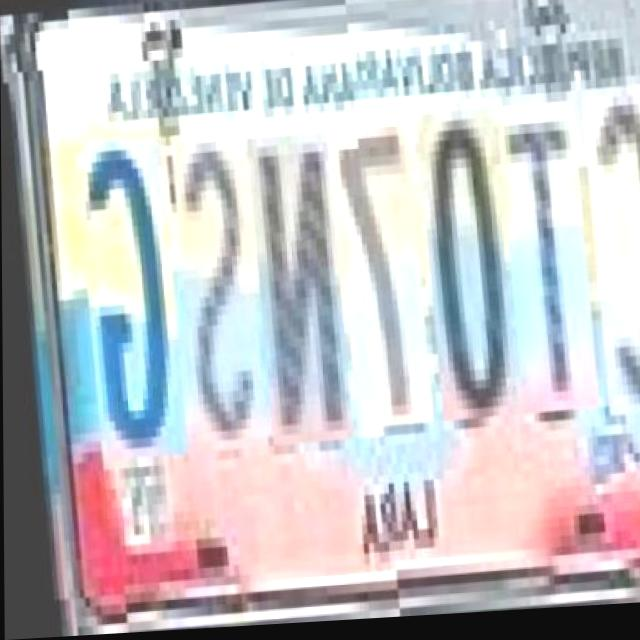7: (328, 118, 425, 432)
c: (579, 102, 640, 425)
g: (70, 125, 178, 450)
n: (242, 123, 344, 438)
o: (413, 112, 510, 427)
s: (166, 119, 259, 443)
t: (494, 106, 591, 421)
